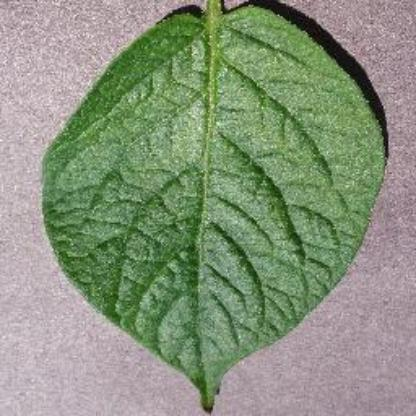Healthy-plant: (41, 0, 391, 410)
